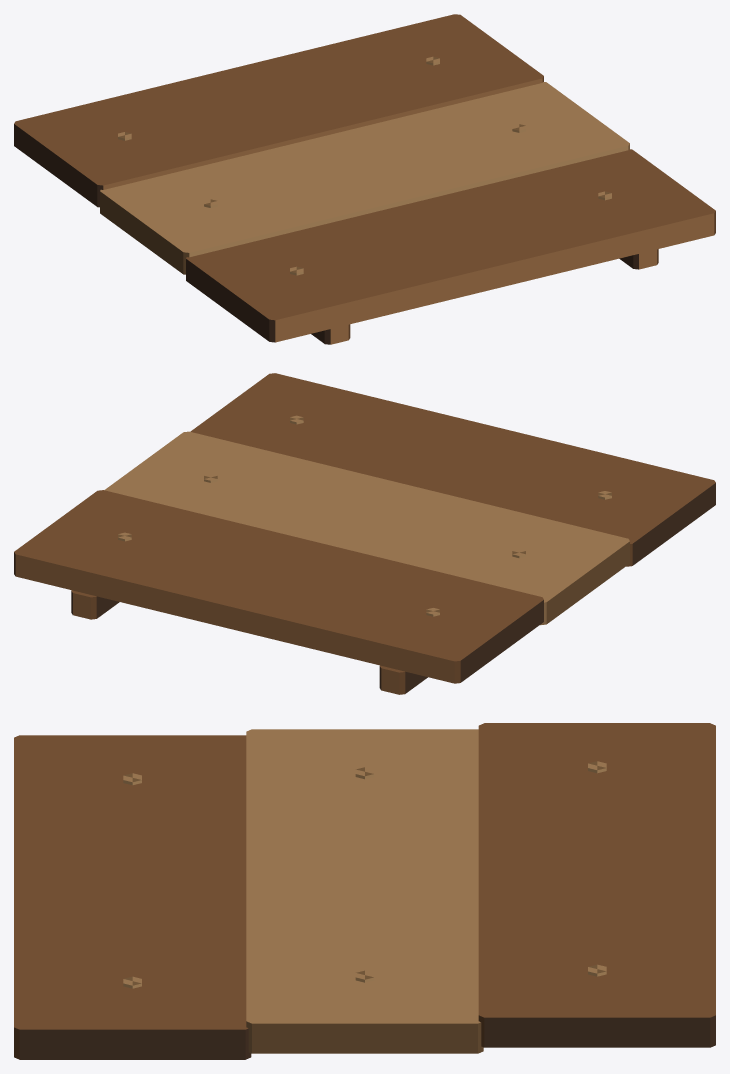
Rendered from roof.fbx.
3 views of the same model, one above another, from view 1: azimuth 30°, elevation 25°; view 2: azimuth 150°, elevation 25°; view 3: azimuth 270°, elevation 25° (orthographic). The views are drawn at different scales.
Parts seen in each view (by area): view 1: roof_body; view 2: roof_body; view 3: roof_body.
Boxes of the visible parts, box(x1,y1,x2,y2) form: roof_body: box(14, 14, 715, 344); roof_body: box(14, 373, 715, 694); roof_body: box(14, 723, 715, 1059).
Bounding box in the file's own units: 4.2 × 0.45 × 4.23.
1 material, 1 textured.
